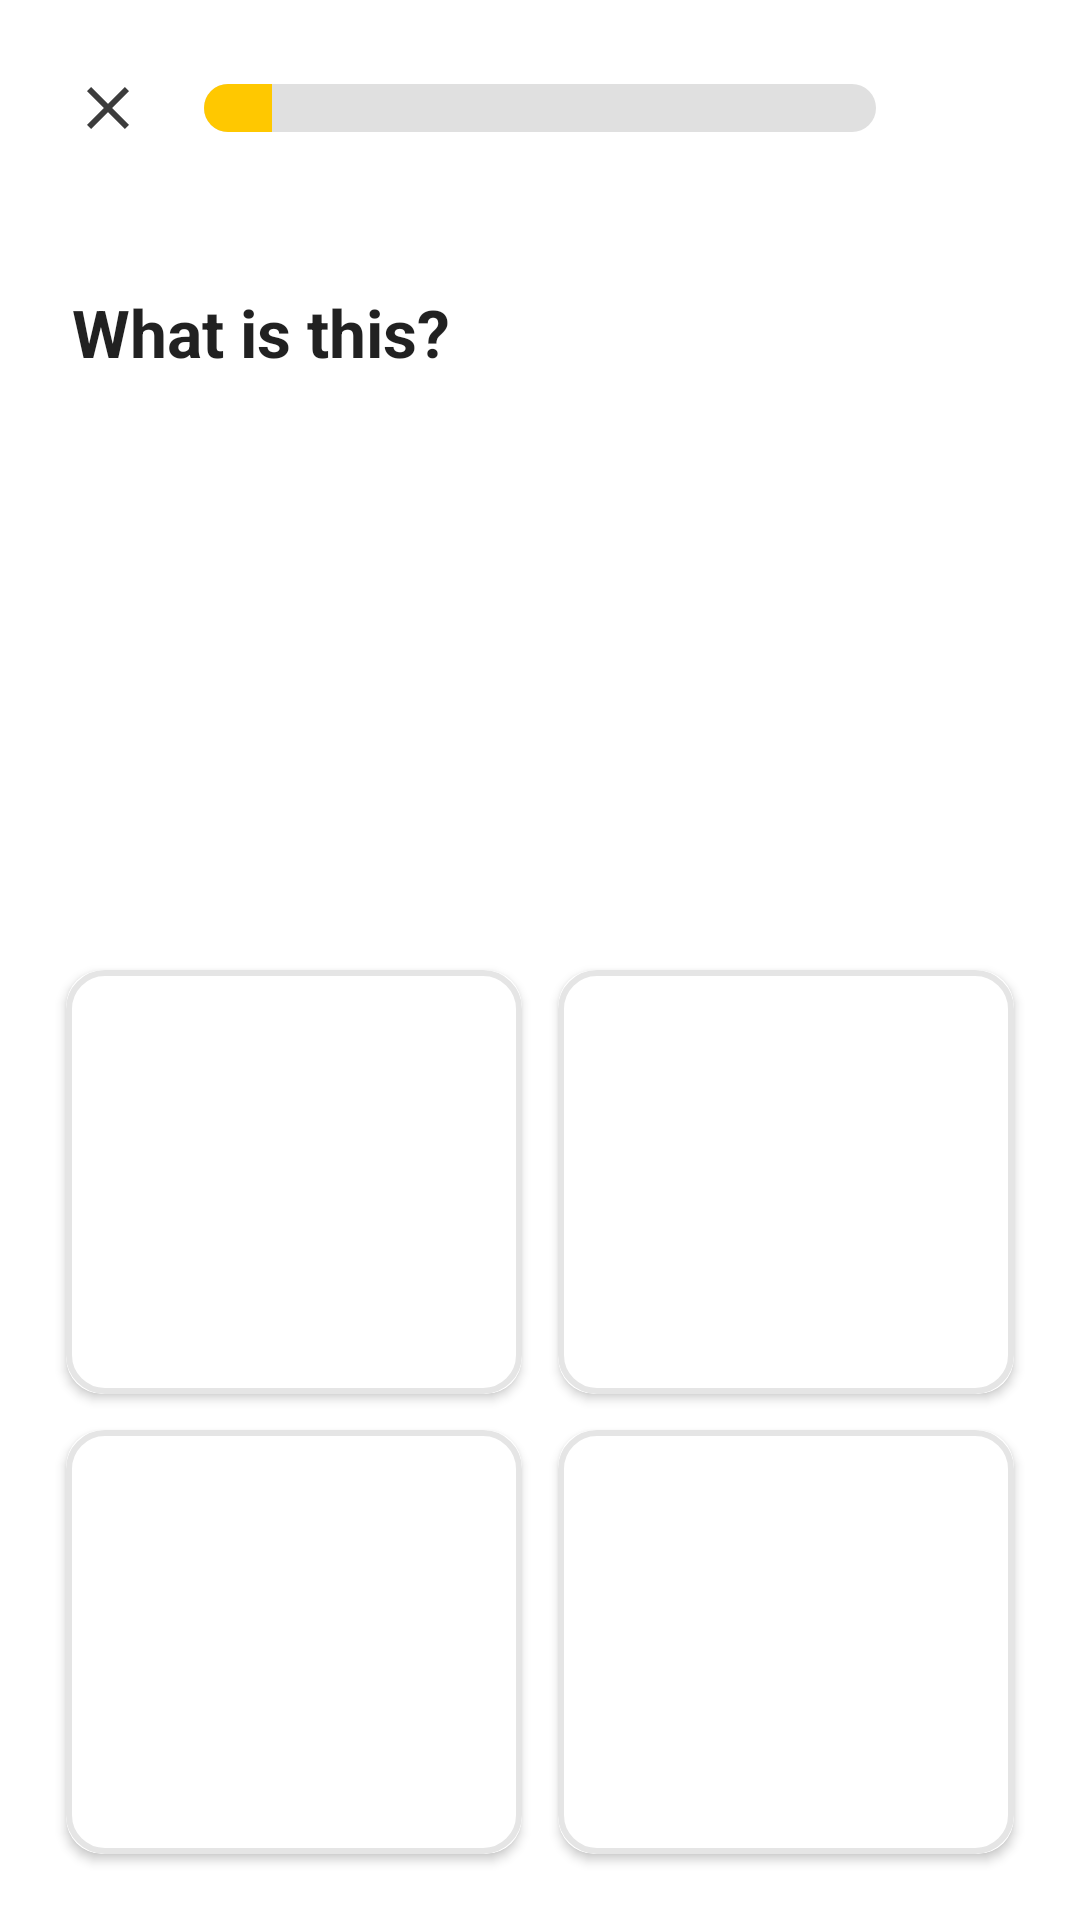

Icons on this 1080 x 1920 Android screen, each with its box as (x1, y1, x2, y2):
Close: (87, 87, 129, 129)
